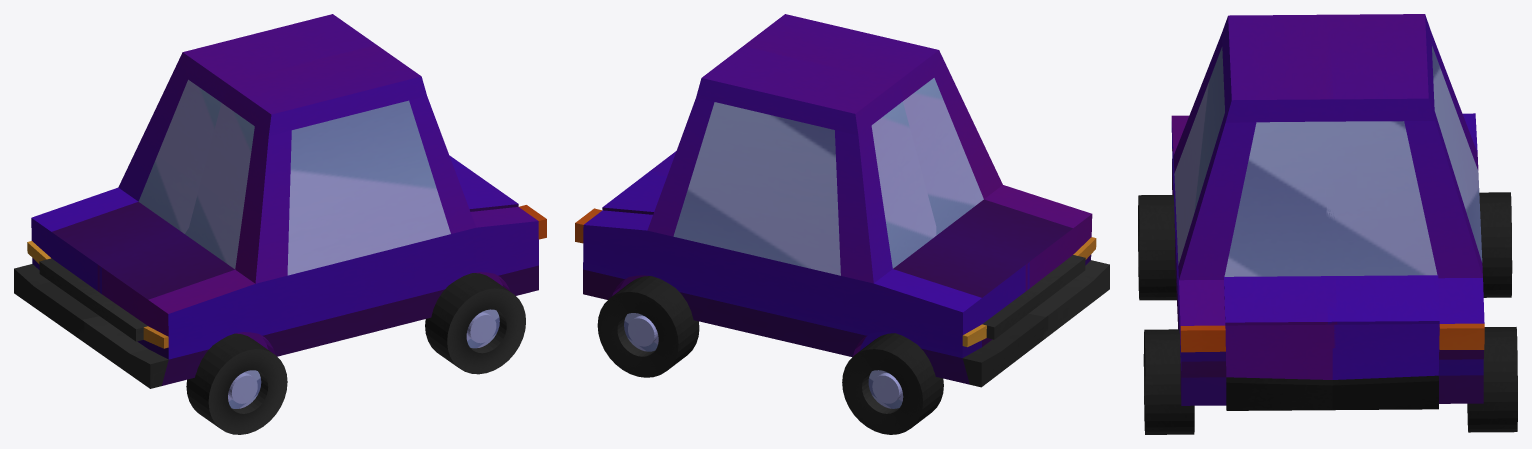
The model's file is Car.fbx.
3 renders of one model, left to right at view 1: azimuth 30°, elevation 25°; view 2: azimuth 150°, elevation 25°; view 3: azimuth 270°, elevation 25°, orthographic. The views are drawn at different scales.
Visible parts, largest first — view 1: Wheels.001; view 2: Wheels.001; view 3: Wheels.001.
Boxes of the visible parts, x1,y1,x2,y2 form: Wheels.001: (14,14,546,434); Wheels.001: (575,14,1109,434); Wheels.001: (1138,14,1517,434).
Bounding box in the file's own units: 376 × 244 × 267.
Materials: 1 (1 with a texture image).
